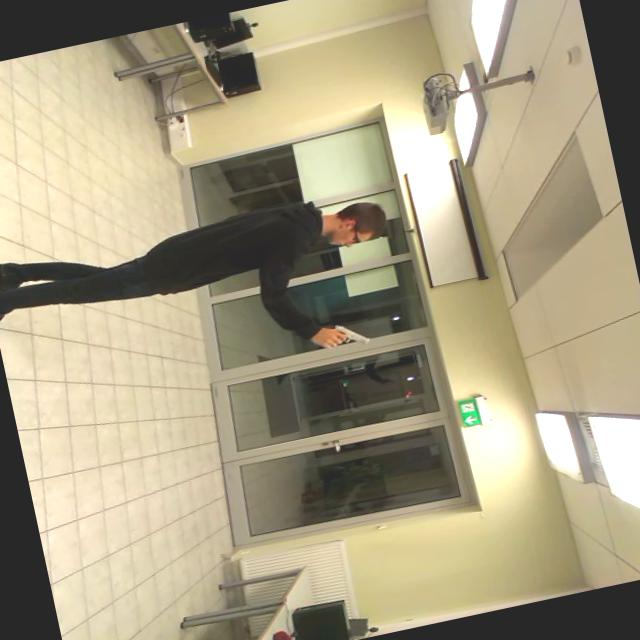handgun: (306, 311, 388, 368)
